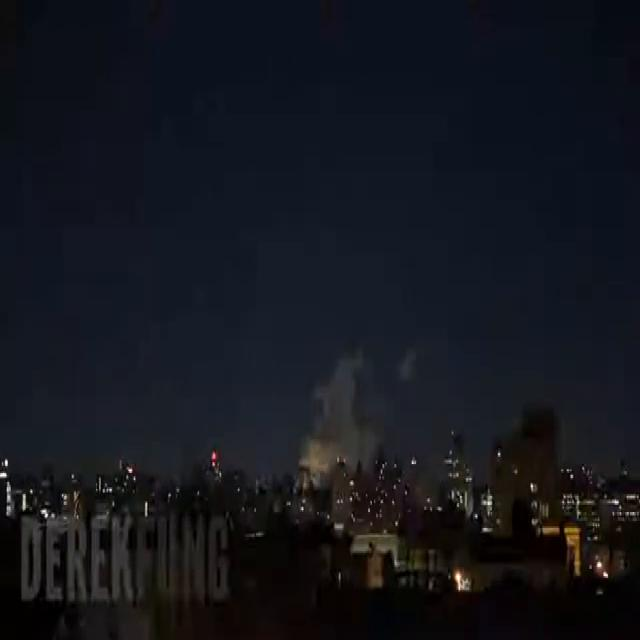smoke: (299, 350, 387, 478), (398, 348, 416, 379)
